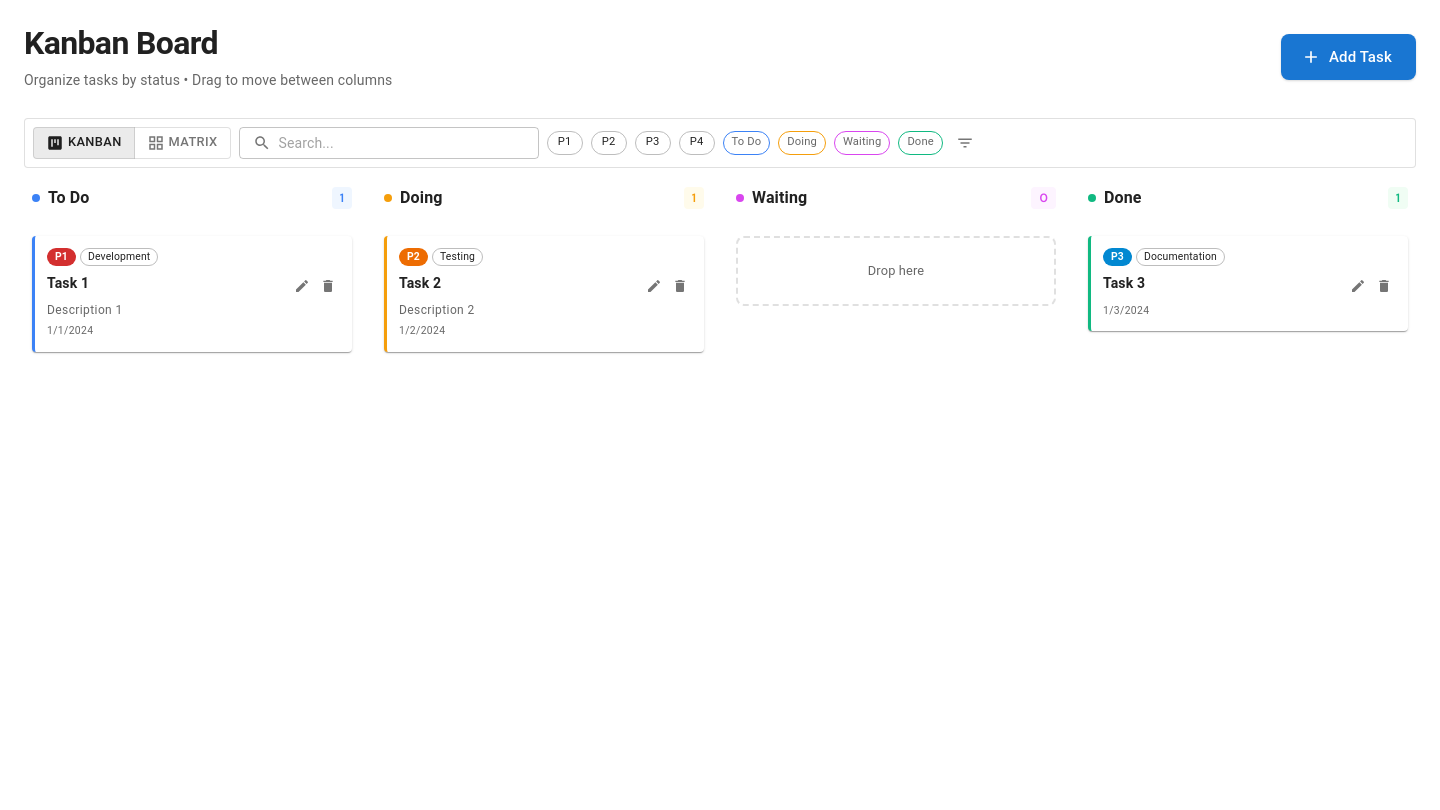
it: Board Component › creates new task with valid status enum
expect the text "Task 1" is shown: met, box [47,274,89,290]
Note: Open dialog
Click the button "Add Task". click: (1348, 57)
box: [1281,34,1416,80]
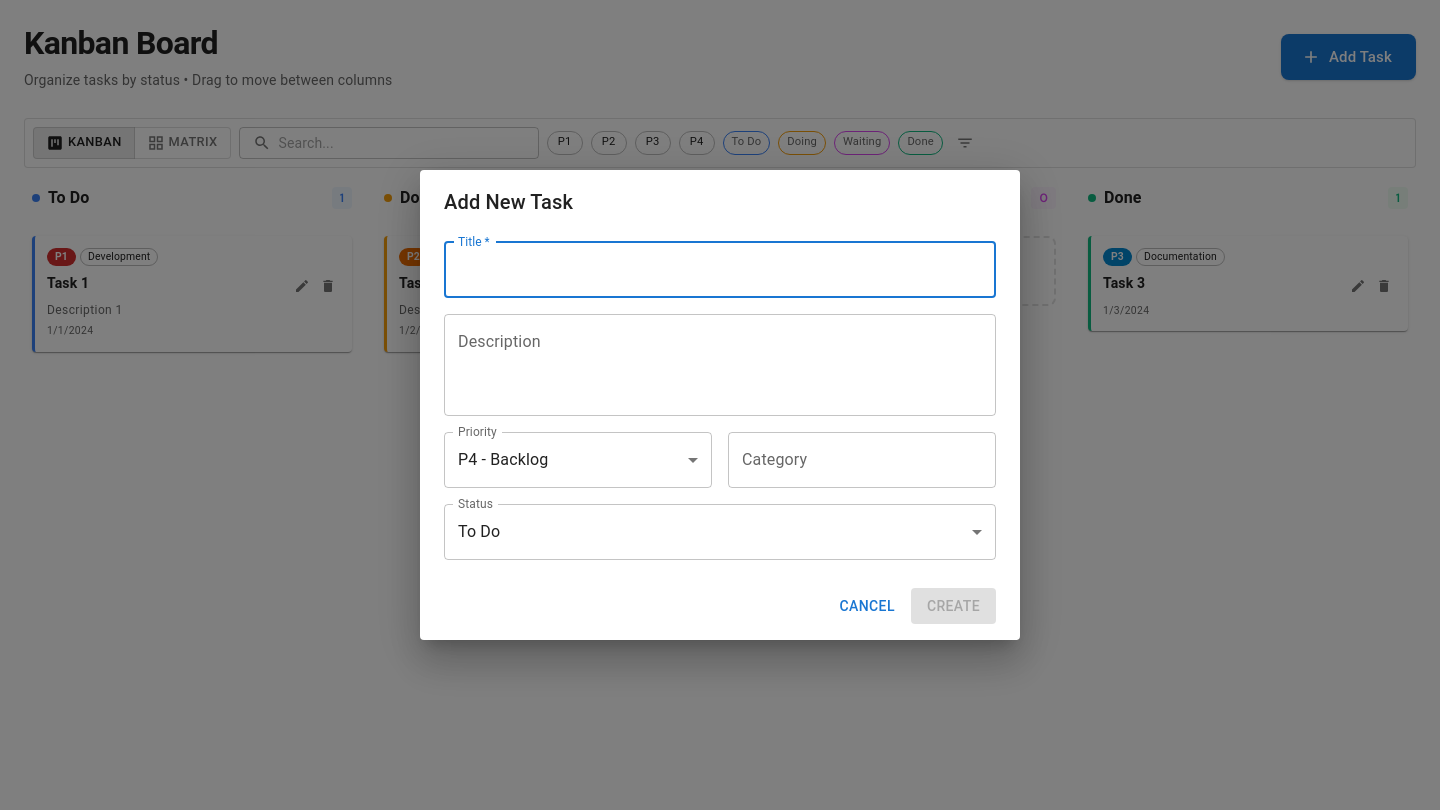
expect the dialog is shown: met, box [420,170,1020,640]
Note: Fill form
Type "New Task" into the field labelled "Title *". click: (720, 270)
box: [444,242,996,298]
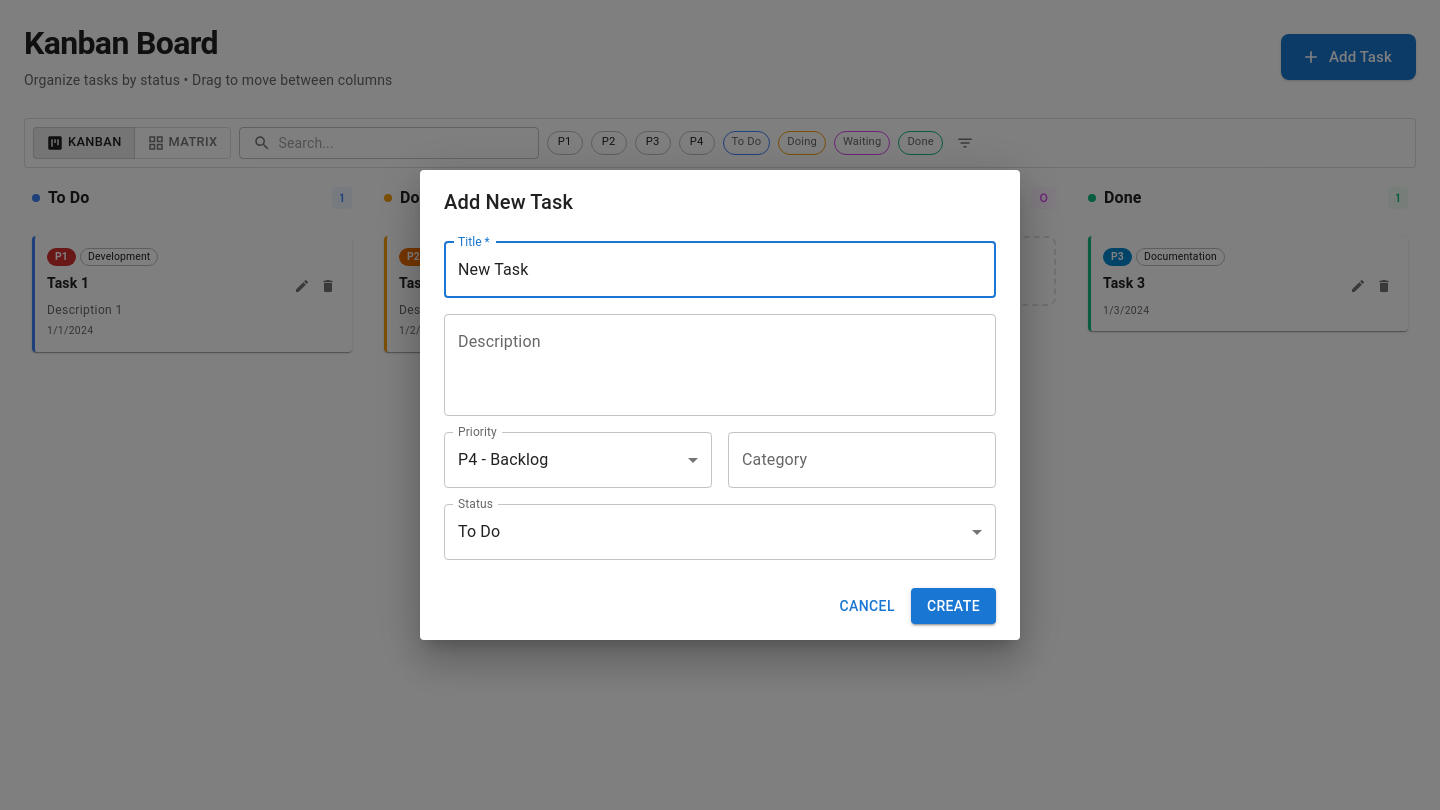
Click the button "Create". click: (953, 606)
box: [911,588,996,624]
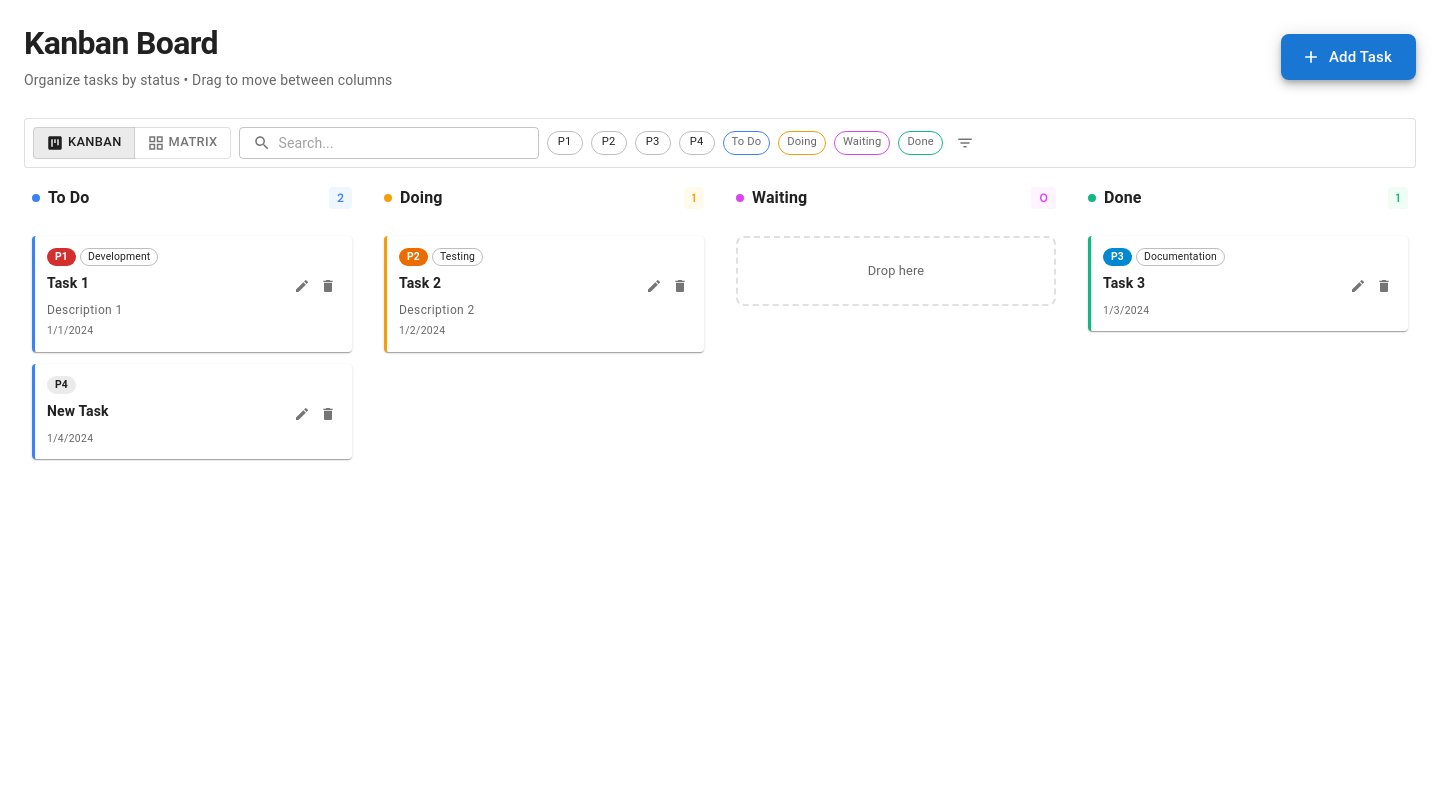
expect the dialog is gone: met
